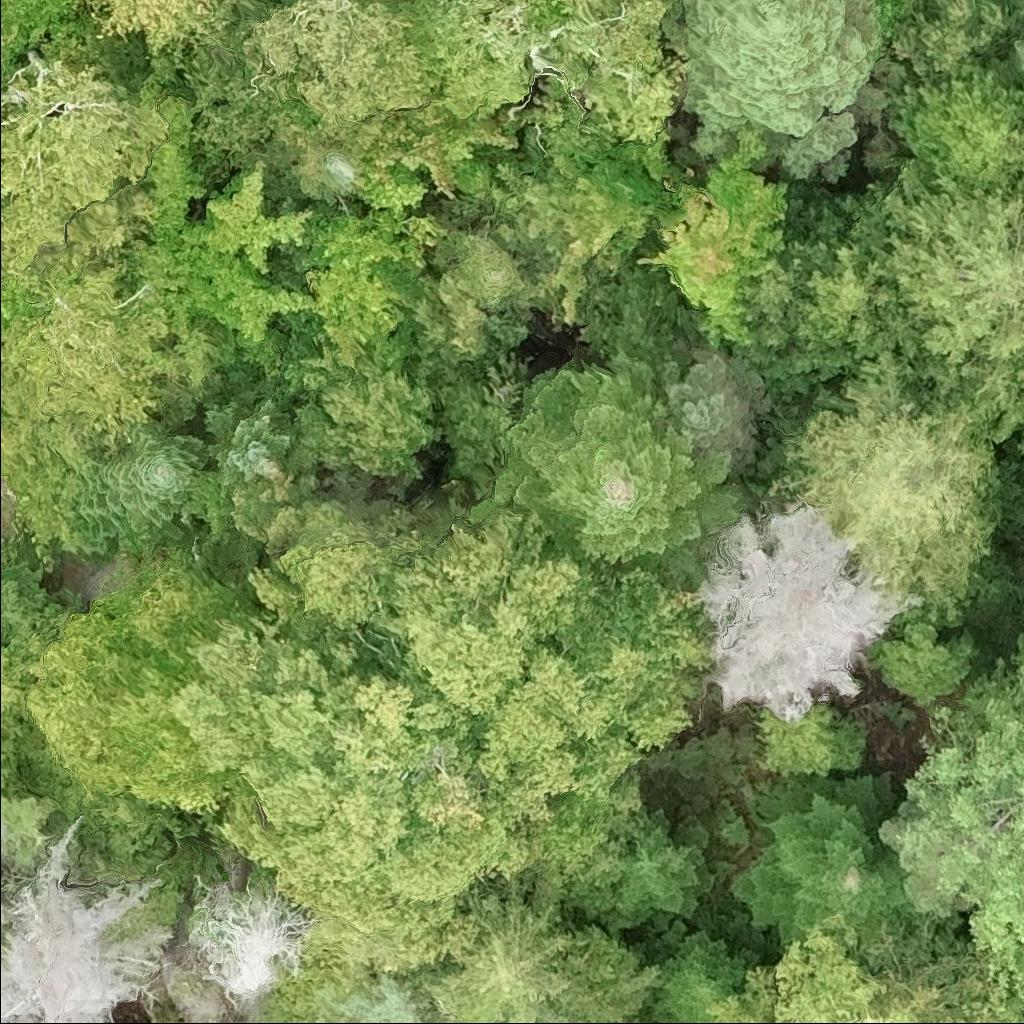crown: (217, 661, 541, 982), (767, 350, 1006, 630), (466, 348, 746, 587), (465, 624, 714, 831), (697, 503, 925, 729), (885, 628, 1023, 1001), (848, 155, 1023, 449), (378, 507, 596, 726), (658, 0, 914, 180), (27, 597, 229, 812), (0, 53, 168, 285), (0, 810, 176, 1023), (705, 910, 1023, 1023), (161, 620, 365, 793), (0, 262, 169, 468), (726, 768, 908, 954), (641, 126, 787, 346), (145, 158, 315, 346), (240, 0, 443, 156), (759, 191, 882, 403), (287, 206, 442, 369), (411, 884, 589, 1023), (529, 0, 683, 146), (246, 529, 404, 668), (535, 85, 663, 250), (355, 101, 520, 217), (884, 52, 1023, 188), (78, 418, 212, 556), (108, 553, 258, 673), (322, 321, 437, 477), (591, 804, 719, 941), (182, 870, 314, 998), (430, 0, 566, 118), (659, 354, 772, 470), (651, 921, 768, 1023), (861, 619, 984, 711), (230, 466, 353, 555), (0, 607, 82, 730), (893, 0, 1012, 81), (77, 0, 242, 58), (206, 396, 294, 497), (756, 703, 868, 778), (307, 973, 445, 1023), (0, 562, 67, 646), (455, 236, 522, 314), (0, 0, 21, 89), (538, 1006, 605, 1023), (1012, 29, 1023, 121), (143, 1010, 163, 1023), (1015, 435, 1023, 452), (500, 1020, 513, 1023), (0, 643, 1, 647)
